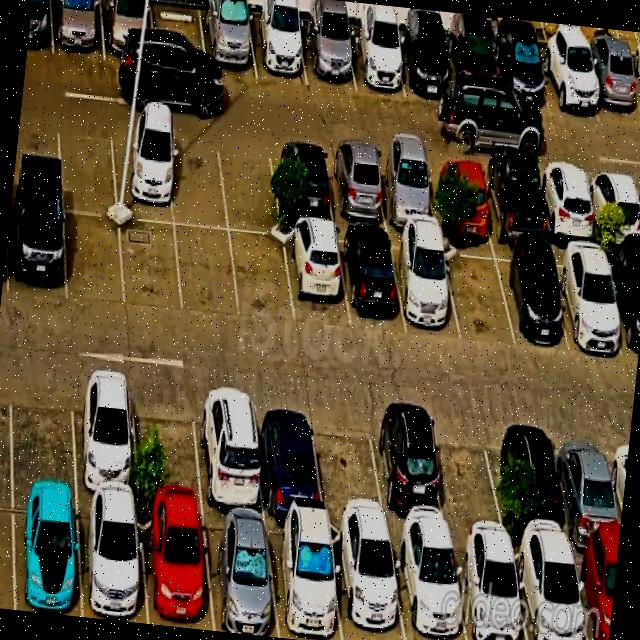empty: (432, 411, 507, 541), (311, 401, 387, 528), (132, 378, 203, 509), (10, 366, 76, 492), (441, 242, 515, 345), (217, 136, 280, 235), (167, 130, 228, 228), (175, 225, 239, 318), (229, 233, 294, 324), (120, 219, 182, 314), (57, 117, 117, 215), (64, 212, 124, 306), (150, 0, 207, 73)
occupied: (369, 407, 449, 534), (201, 511, 279, 637), (138, 504, 213, 631), (266, 518, 342, 640), (194, 386, 264, 515), (253, 393, 324, 519), (78, 496, 147, 624), (329, 524, 405, 640), (71, 371, 138, 501), (503, 416, 571, 544), (13, 492, 81, 617), (554, 422, 621, 548), (390, 533, 467, 640), (550, 247, 625, 353), (451, 536, 527, 640), (511, 541, 587, 640), (389, 234, 460, 339), (493, 246, 567, 345), (337, 228, 406, 330), (283, 224, 349, 328), (110, 124, 173, 223), (8, 200, 66, 301), (479, 161, 547, 245), (269, 141, 334, 223), (427, 156, 492, 237), (373, 150, 438, 229), (324, 146, 388, 226), (534, 45, 599, 122), (536, 165, 598, 244), (578, 48, 640, 126), (490, 37, 551, 116), (443, 33, 502, 109), (571, 545, 618, 640), (585, 168, 640, 248), (247, 12, 307, 85), (393, 32, 454, 103), (345, 26, 405, 97), (200, 6, 257, 80), (604, 251, 640, 360), (300, 22, 355, 89), (100, 0, 156, 65), (51, 0, 104, 60)
